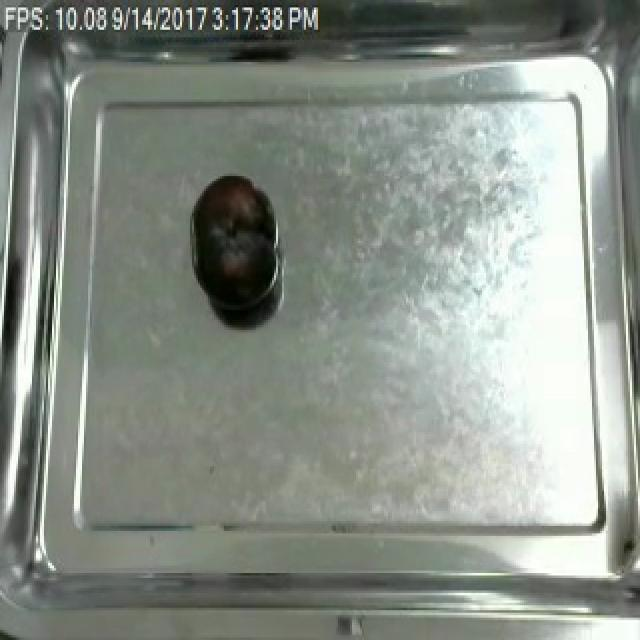Fruit: (188, 171, 274, 318)
